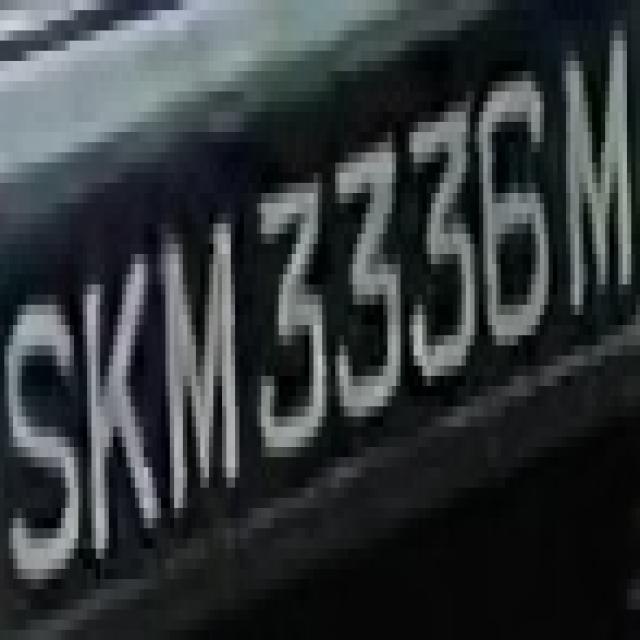3: (396, 61, 475, 416), (314, 142, 401, 457), (252, 152, 318, 468)
6: (479, 21, 557, 407)
K: (74, 224, 152, 558)
M: (148, 193, 244, 528), (557, 21, 636, 336)
S: (9, 254, 78, 609)
